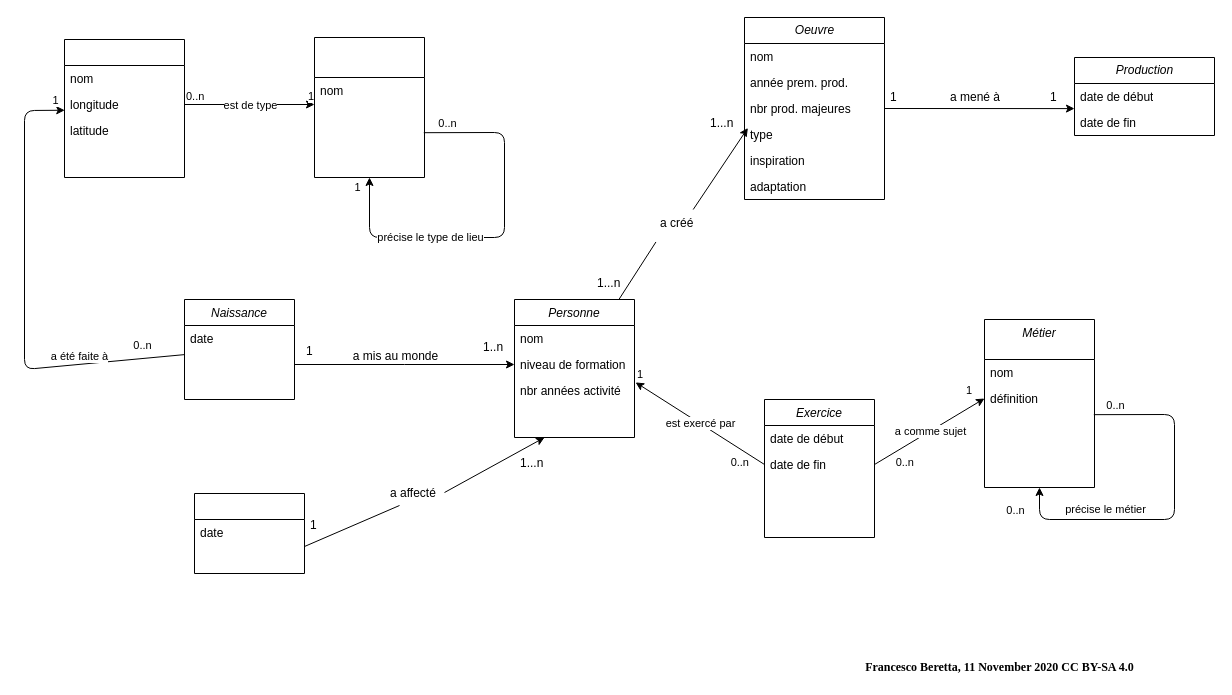
Some shapes in this 1232 by 695 pixel diagram are drawn without their labels. Each missing label, with the box of its shape:
Lieu: (64, 38, 184, 178)
Mort: (194, 492, 304, 574)
Type de lieu: (314, 36, 424, 178)
